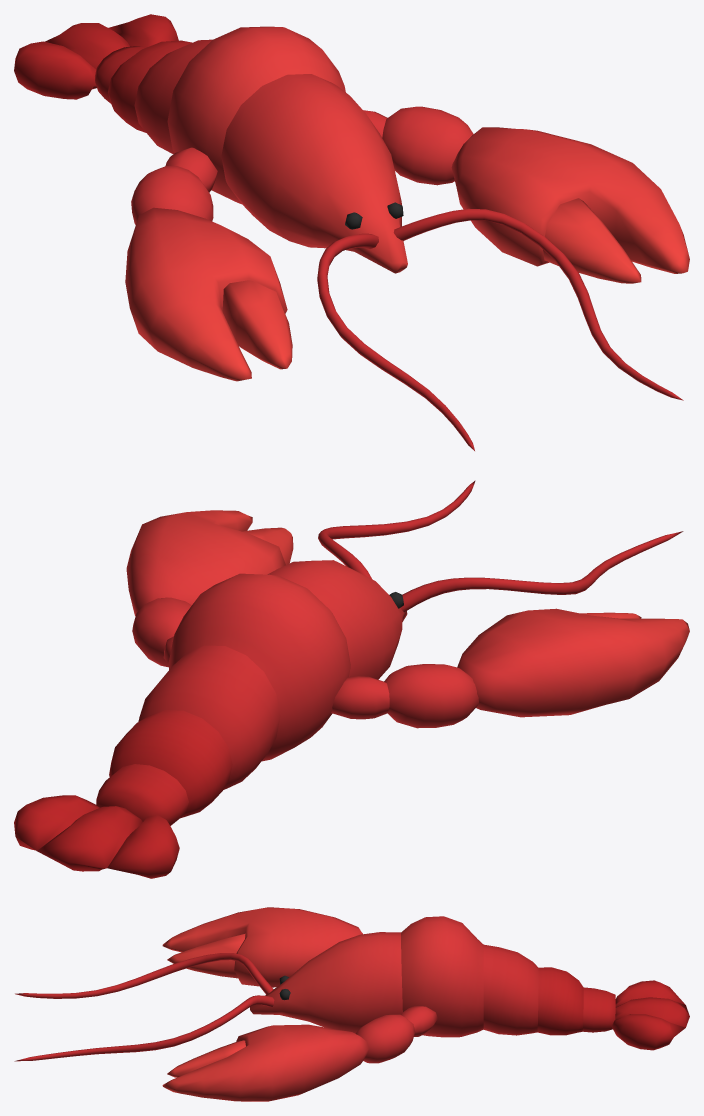
The model's file is lobster_001.fbx.
3 views of the same model, one above another, from view 1: azimuth 30°, elevation 25°; view 2: azimuth 150°, elevation 25°; view 3: azimuth 270°, elevation 25° (orthographic). The views are drawn at different scales.
Parts seen in each view (by area): view 1: lobster_001; view 2: lobster_001; view 3: lobster_001.
Boxes of the visible parts, x1,y1,x2,y2 form: lobster_001: (14,14,689,450); lobster_001: (14,480,689,878); lobster_001: (14,907,689,1101).
Bounding box in the file's own units: 28.73 × 49.19 × 8.86.
